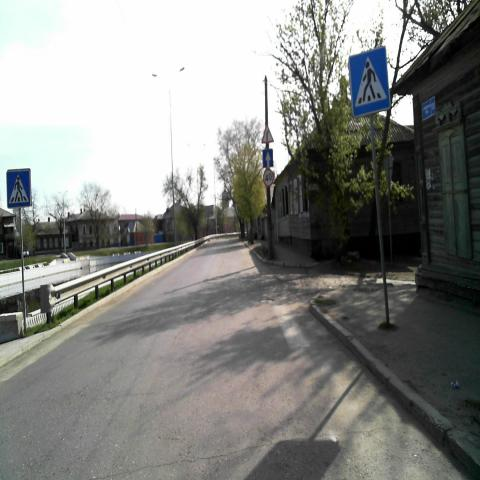1_11: (261, 124, 274, 144)
